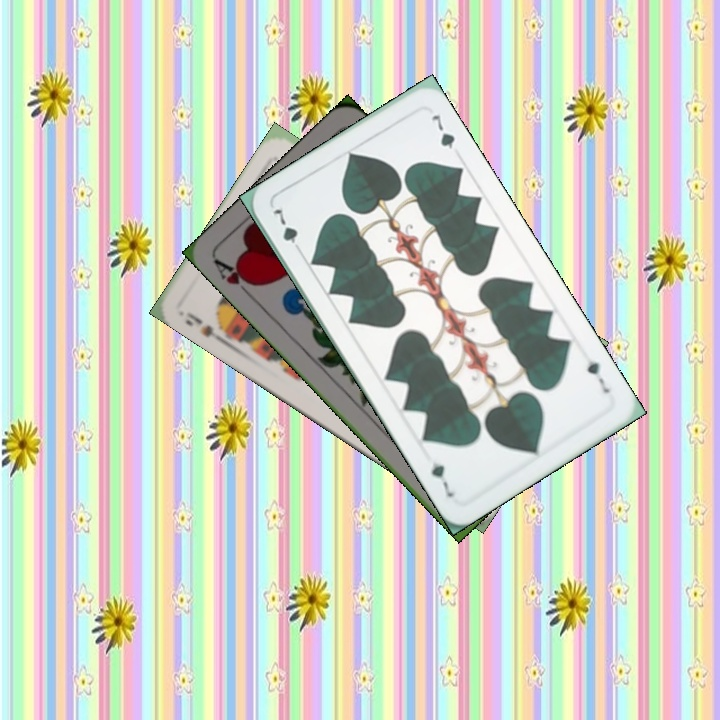G7: (268, 204, 306, 257), (582, 355, 612, 396)
HA: (210, 255, 261, 302)
S9: (180, 308, 232, 348)
